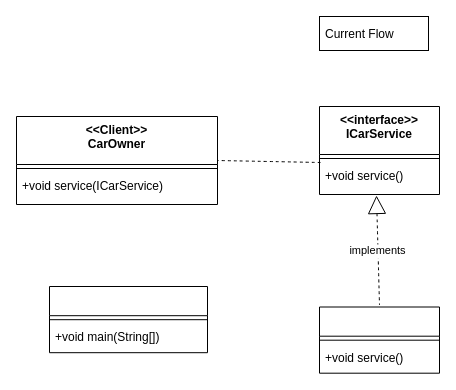
Image size: 456x390. Some labels were removed from this diagram. The shapes that lost their labels are listed below. From the top down, each one's box as (x1, y1, x2, y2) in pixels, then its label:
(48, 286, 208, 353): PatternTest
(318, 306, 440, 373): CarService
